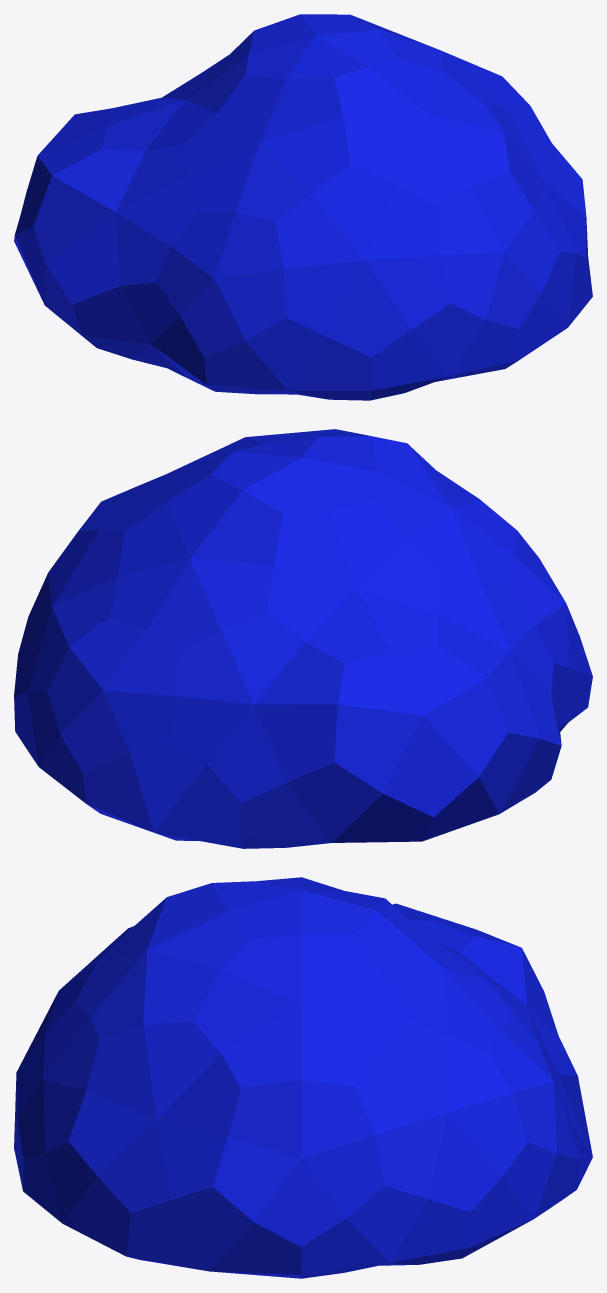
File: lapizdeepblue.fbx
The picture shows the model from 3 angles, top to bottom: view 1: azimuth 30°, elevation 25°; view 2: azimuth 150°, elevation 25°; view 3: azimuth 270°, elevation 25°; orthographic projection. The views are drawn at different scales.
Parts seen in each view (by area): view 1: lapiz rock; view 2: lapiz rock; view 3: lapiz rock.
Part boxes in pixels (x1=…): lapiz rock: x1=14, y1=14, x2=592, y2=400; lapiz rock: x1=14, y1=429, x2=592, y2=848; lapiz rock: x1=14, y1=877, x2=592, y2=1278.
Size of the model in its own units: 189 by 99.69 by 181.
